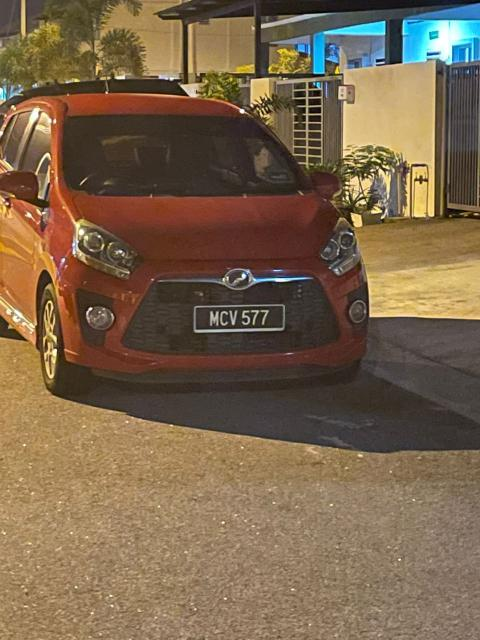License_Plate: (201, 304, 285, 335)
car: (2, 91, 383, 396)
